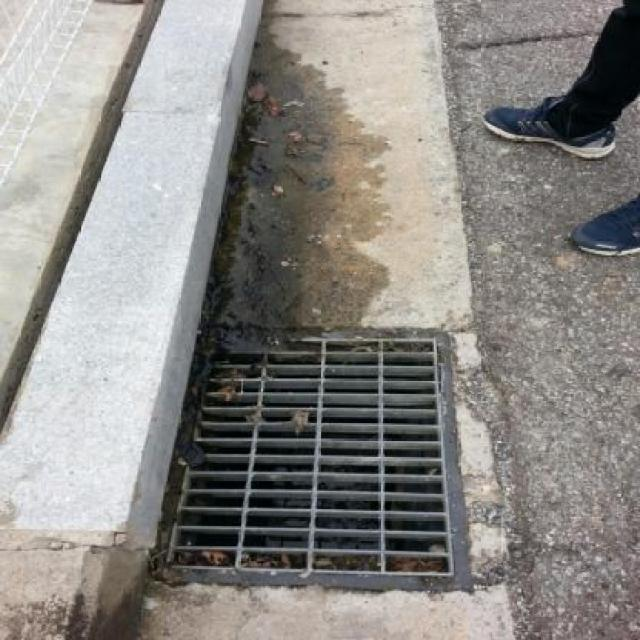Drain Hole: (183, 310, 506, 584)
